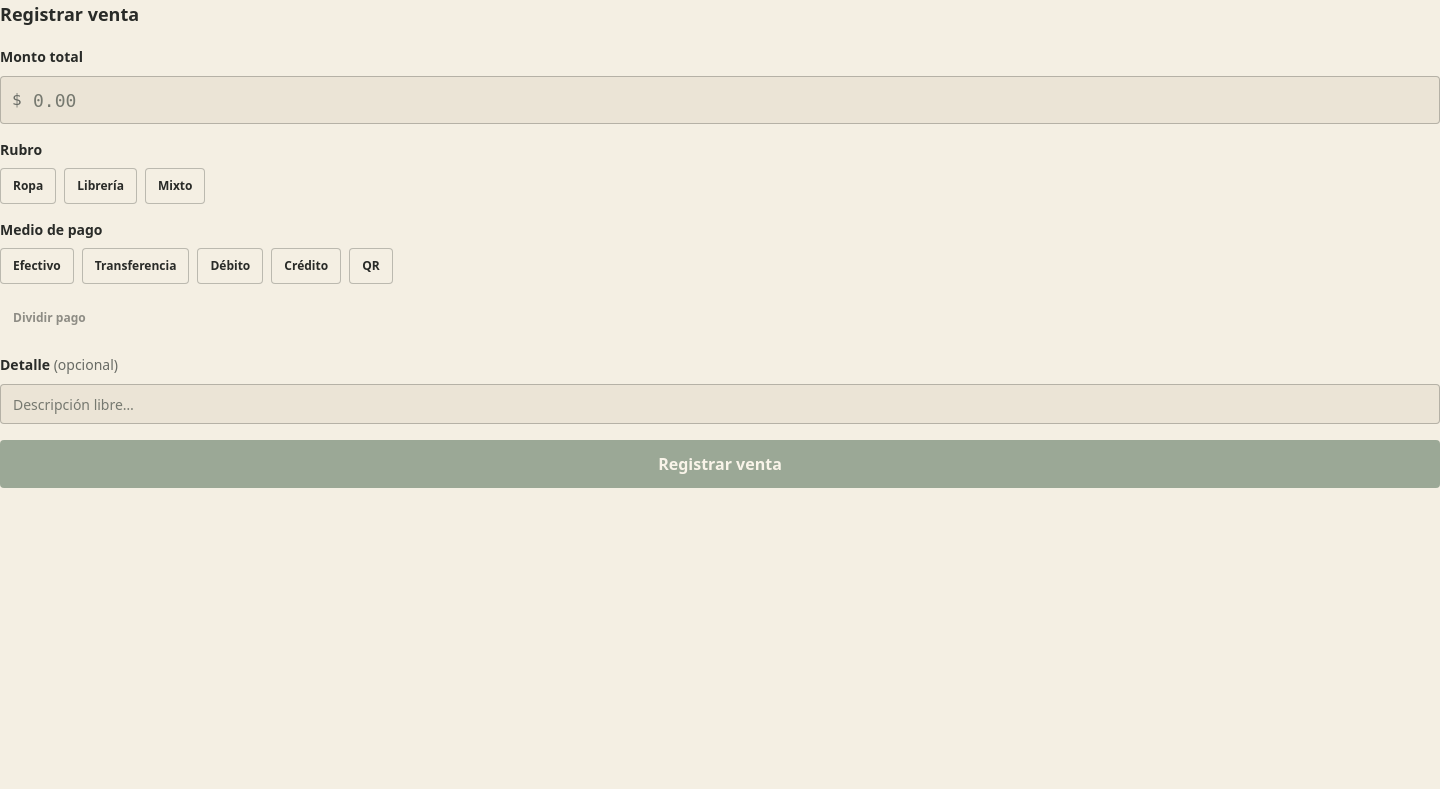
Test: SaleForm › preserves primary method and recipient when entering split mode
The image size is (1440, 789).
Type "200.00" into the field labelled "Monto total". click: [720, 100]
box: [0, 76, 1439, 124]
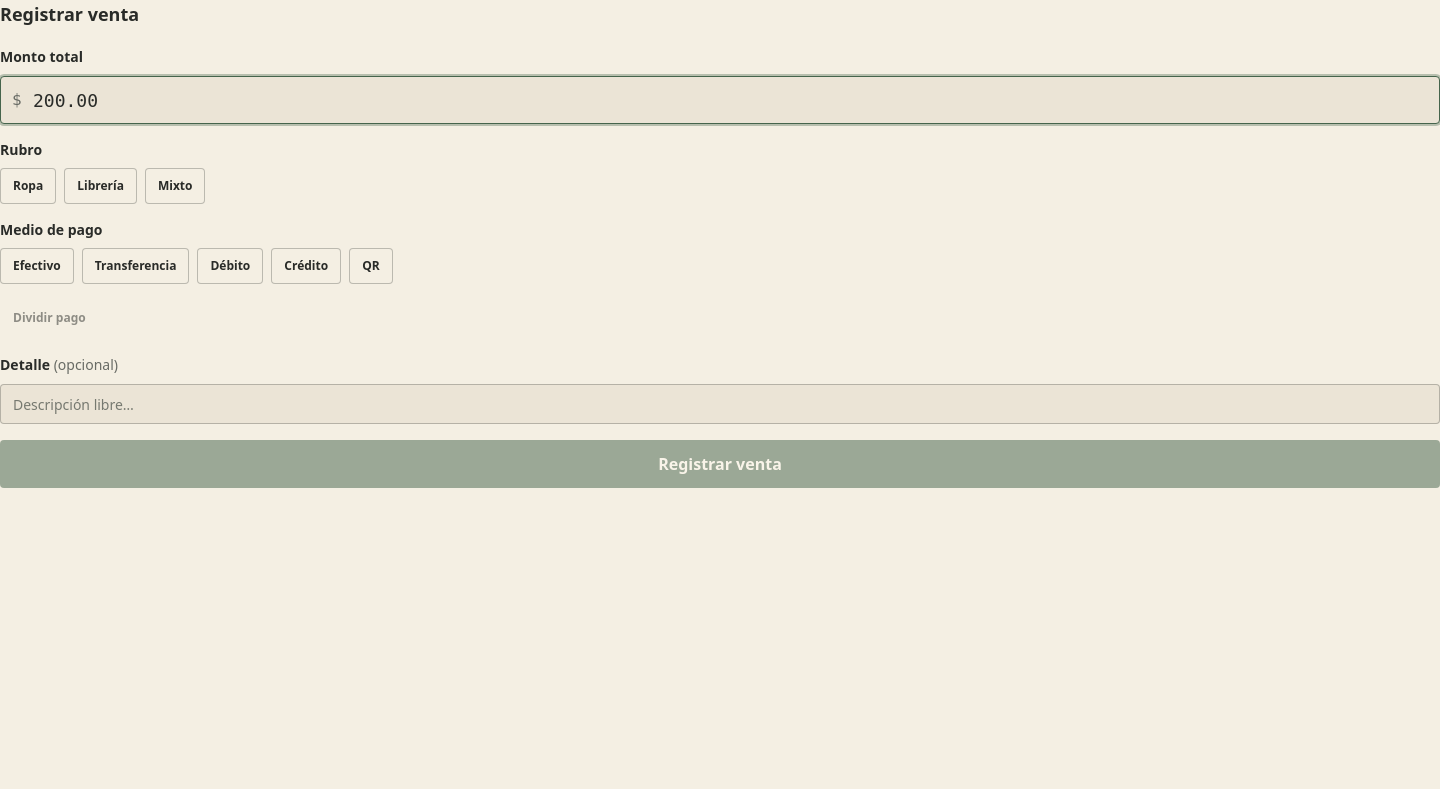
Click the button "Ropa". click: [28, 186]
box: [0, 168, 56, 204]
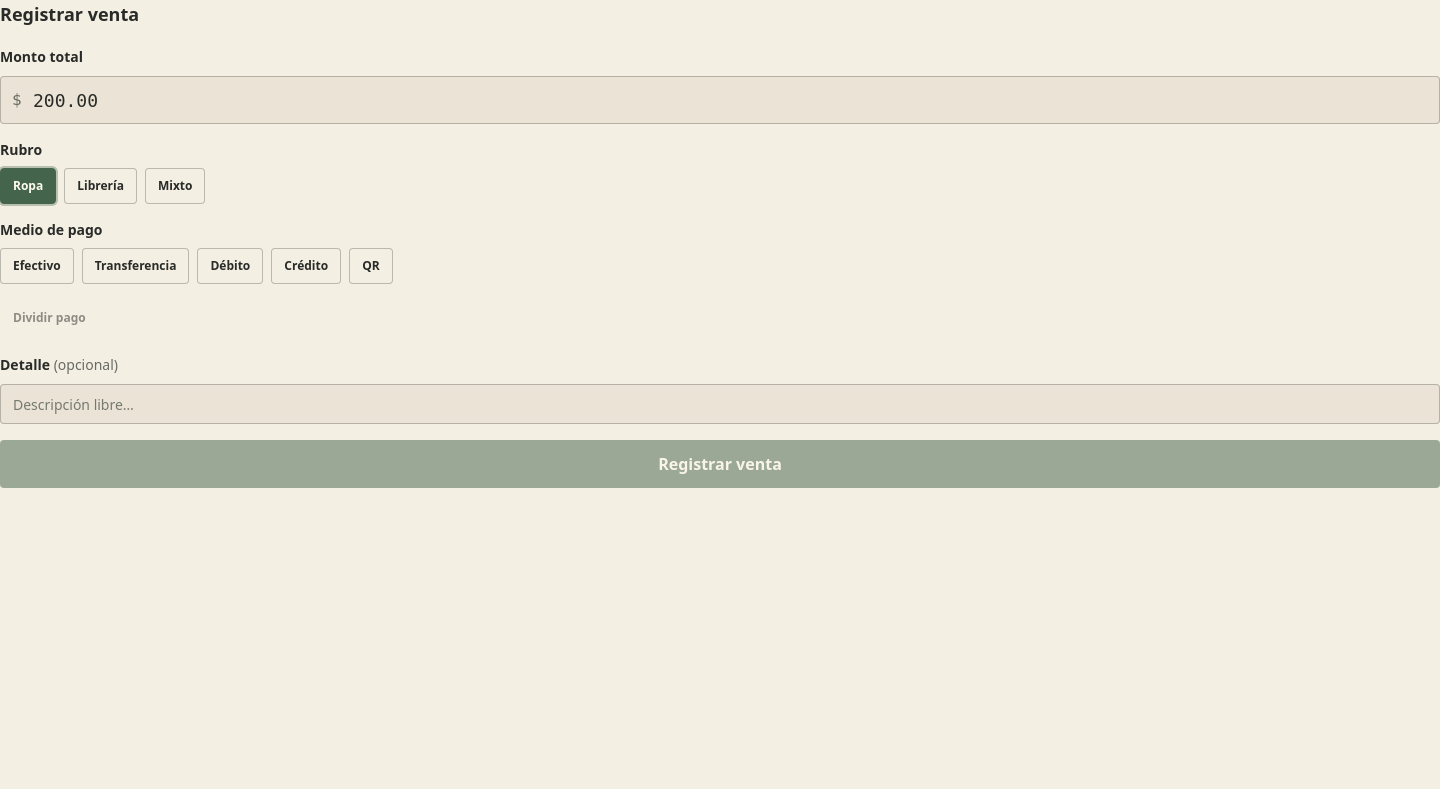
Click the button "Transferencia". click: [136, 266]
box: [82, 248, 190, 284]
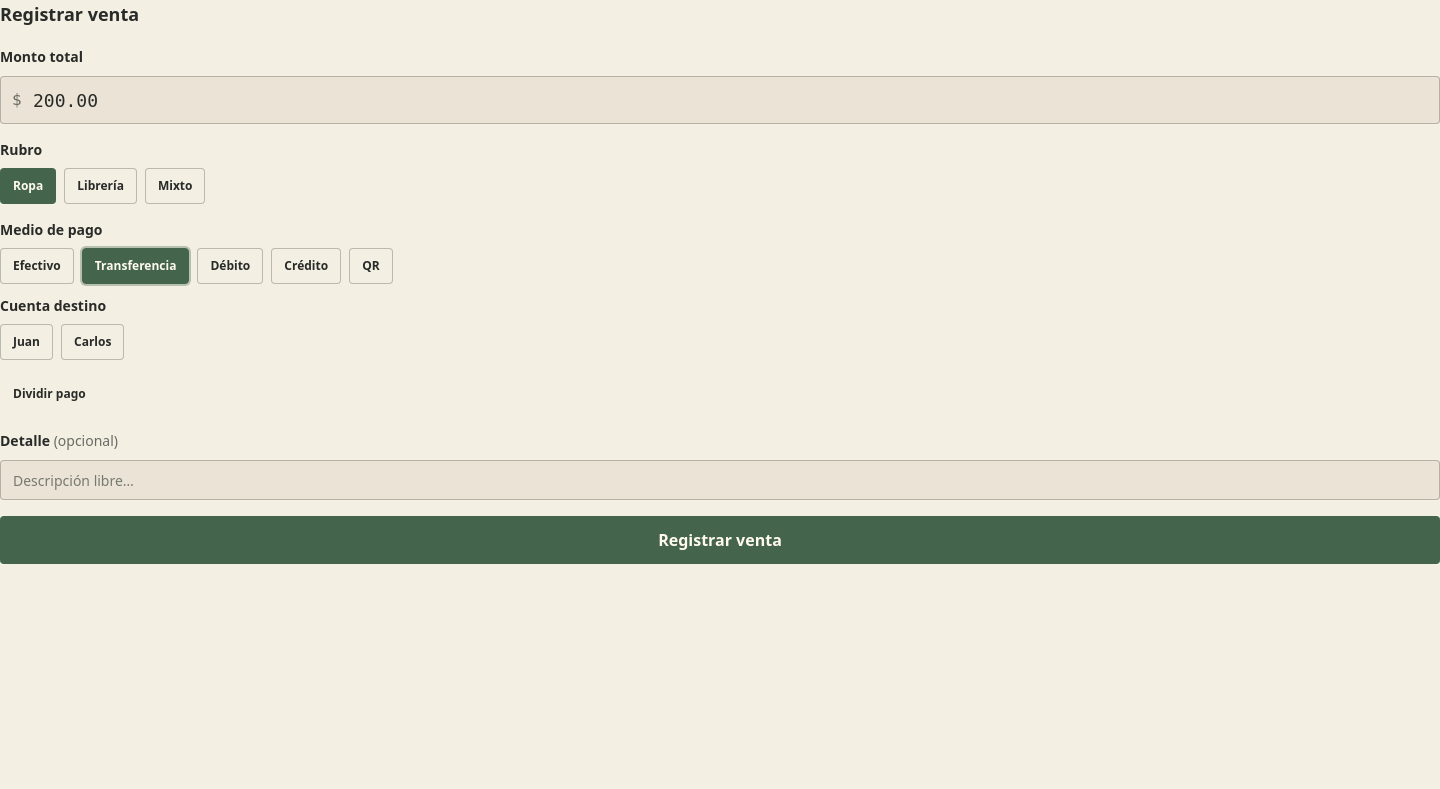
Click the button "Juan". click: [26, 342]
box: [0, 324, 53, 360]
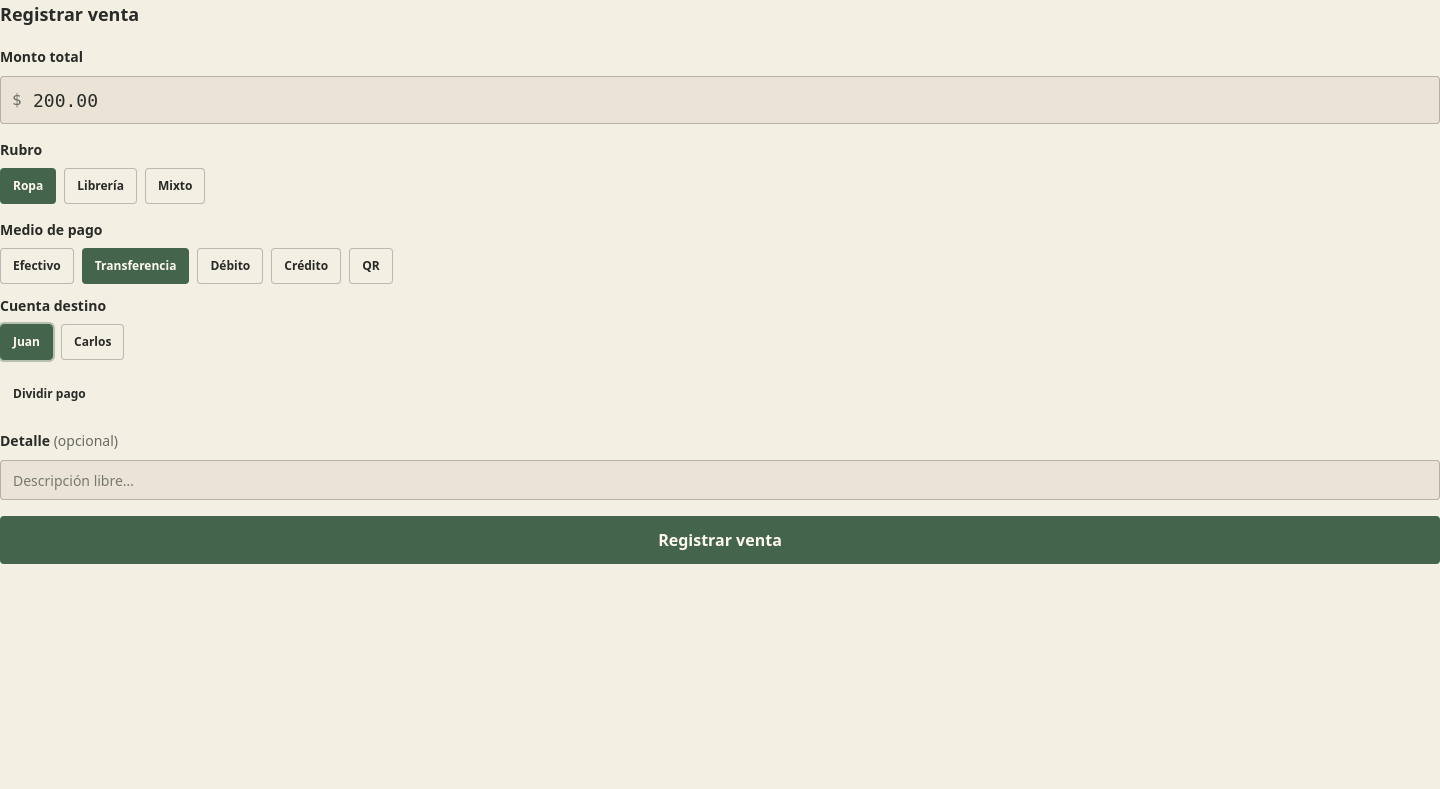
Note: Enter split mode
Click the button "Dividir pago". click: [49, 394]
box: [0, 376, 99, 412]
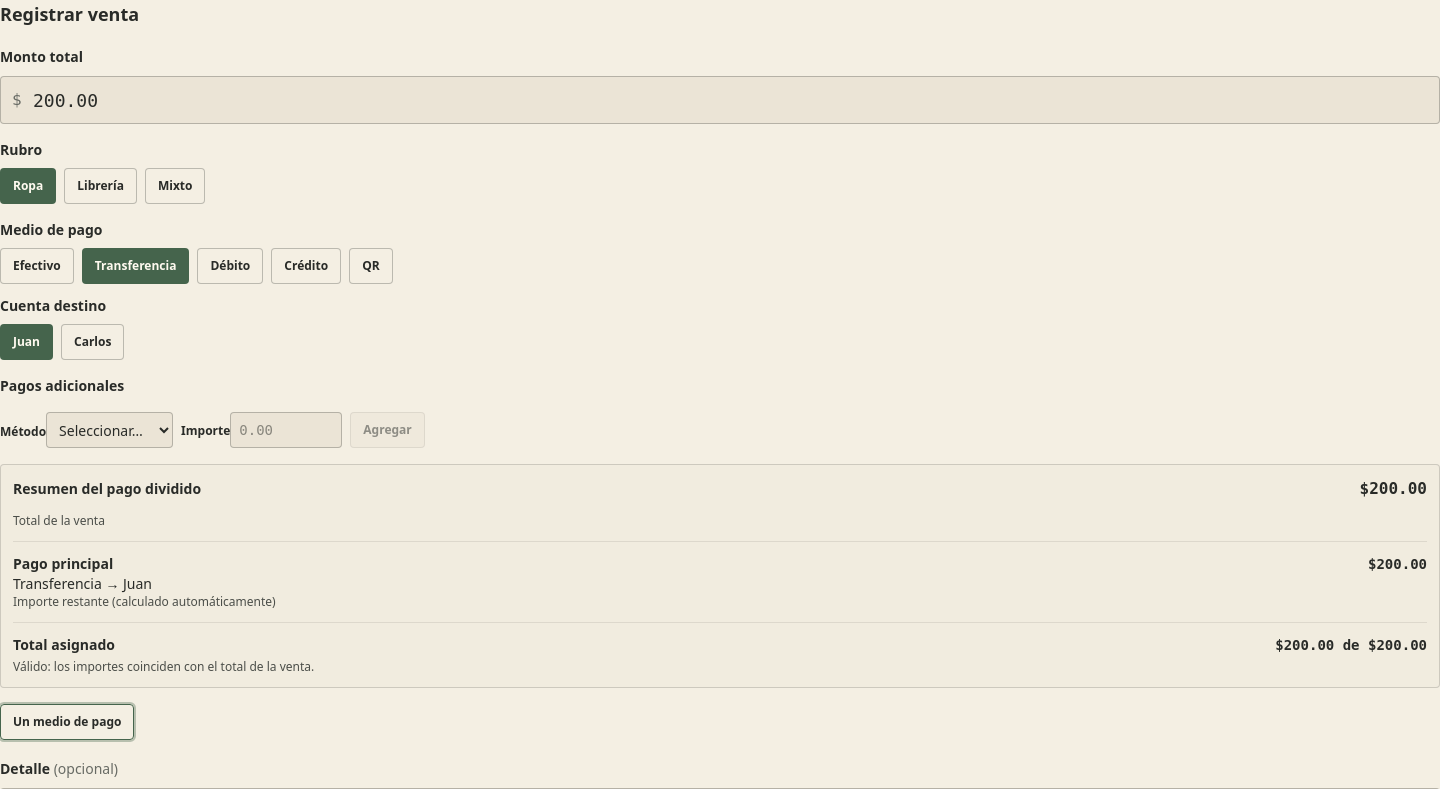
Expected: the button "Transferencia" is shown, [82, 248, 190, 284]
Now the button "Juan" is shown, box [0, 324, 53, 360]
Now the text "Pagos adicionales" is shown, box [0, 376, 124, 395]
